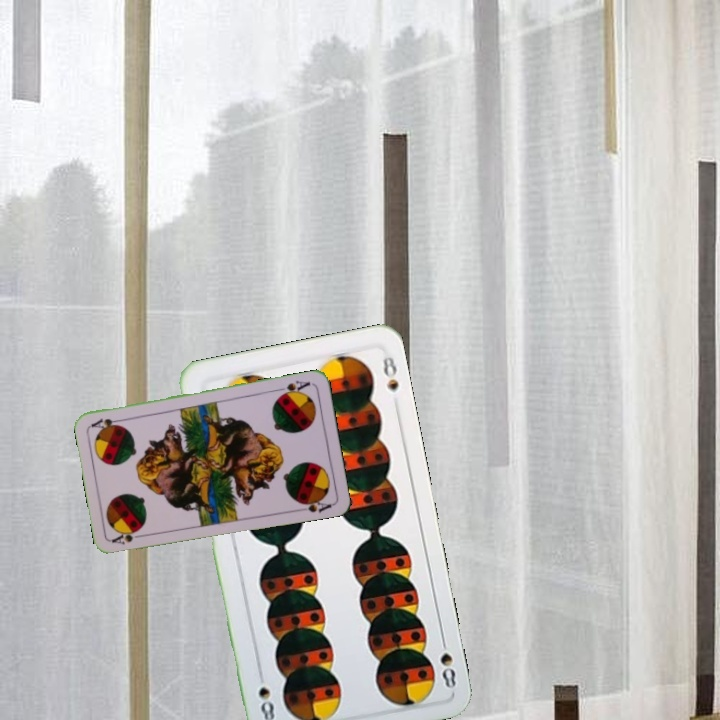S8: (436, 632, 459, 691)
SA: (273, 377, 313, 399), (108, 526, 149, 547)
